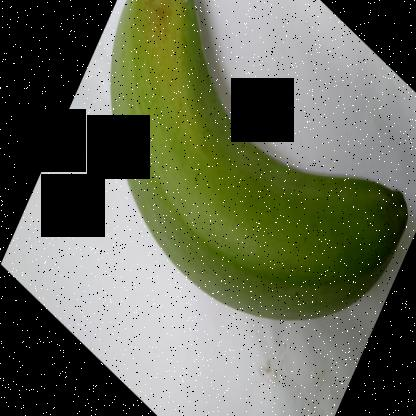freshunripe: (101, 0, 413, 346)
